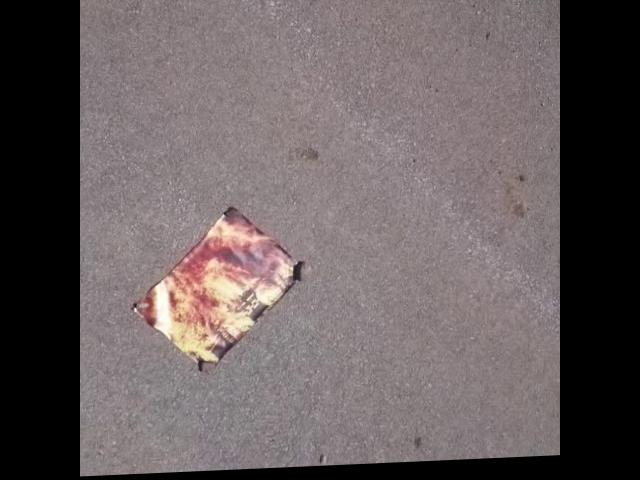fire-poster: (130, 202, 309, 374)
